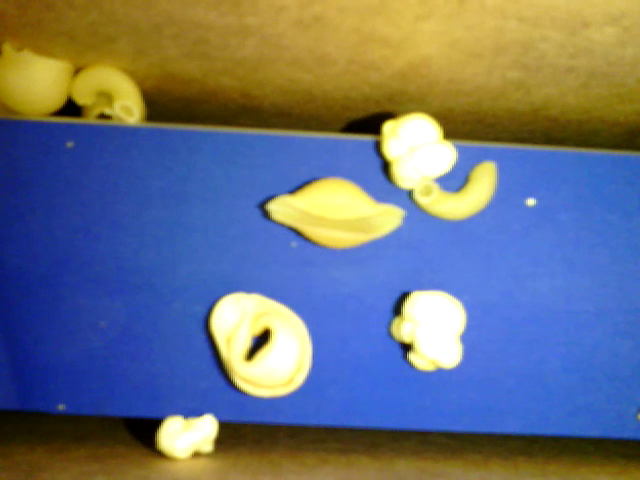elbow: (413, 161, 496, 218), (72, 64, 142, 118)
shell: (263, 175, 406, 249), (1, 43, 74, 112), (82, 97, 148, 122)
tortellini: (208, 290, 312, 398)
